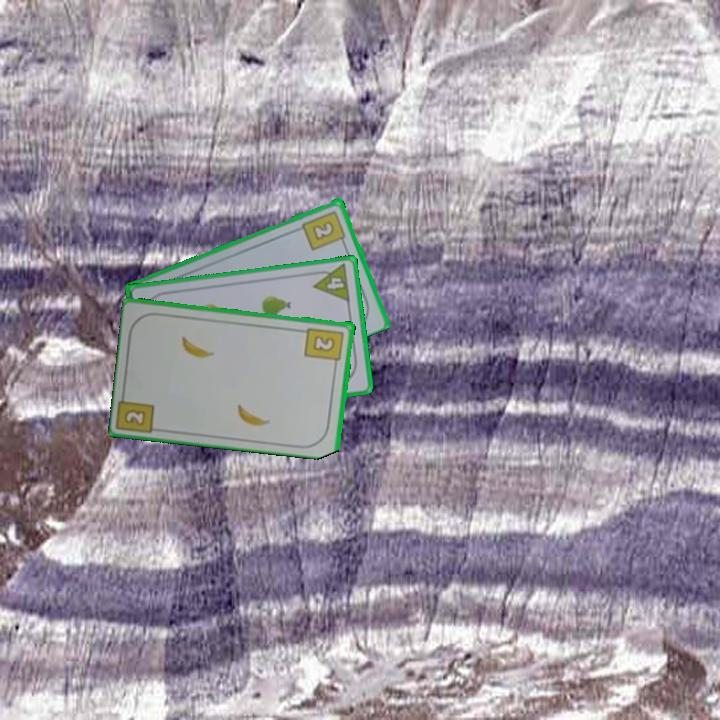2b: (299, 207, 349, 253), (302, 324, 347, 369), (121, 406, 149, 428)
4p: (309, 260, 353, 305)
